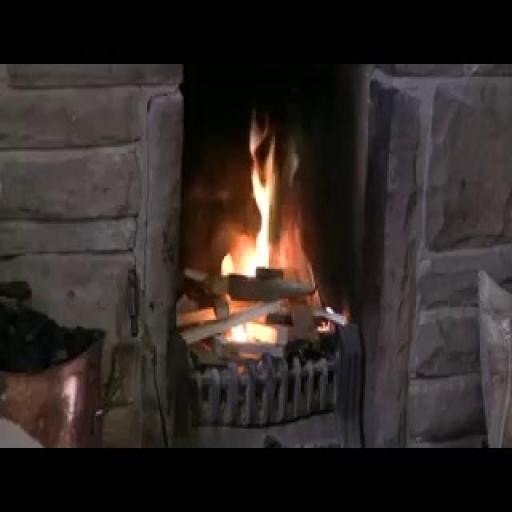smoke: (230, 160, 290, 280)
